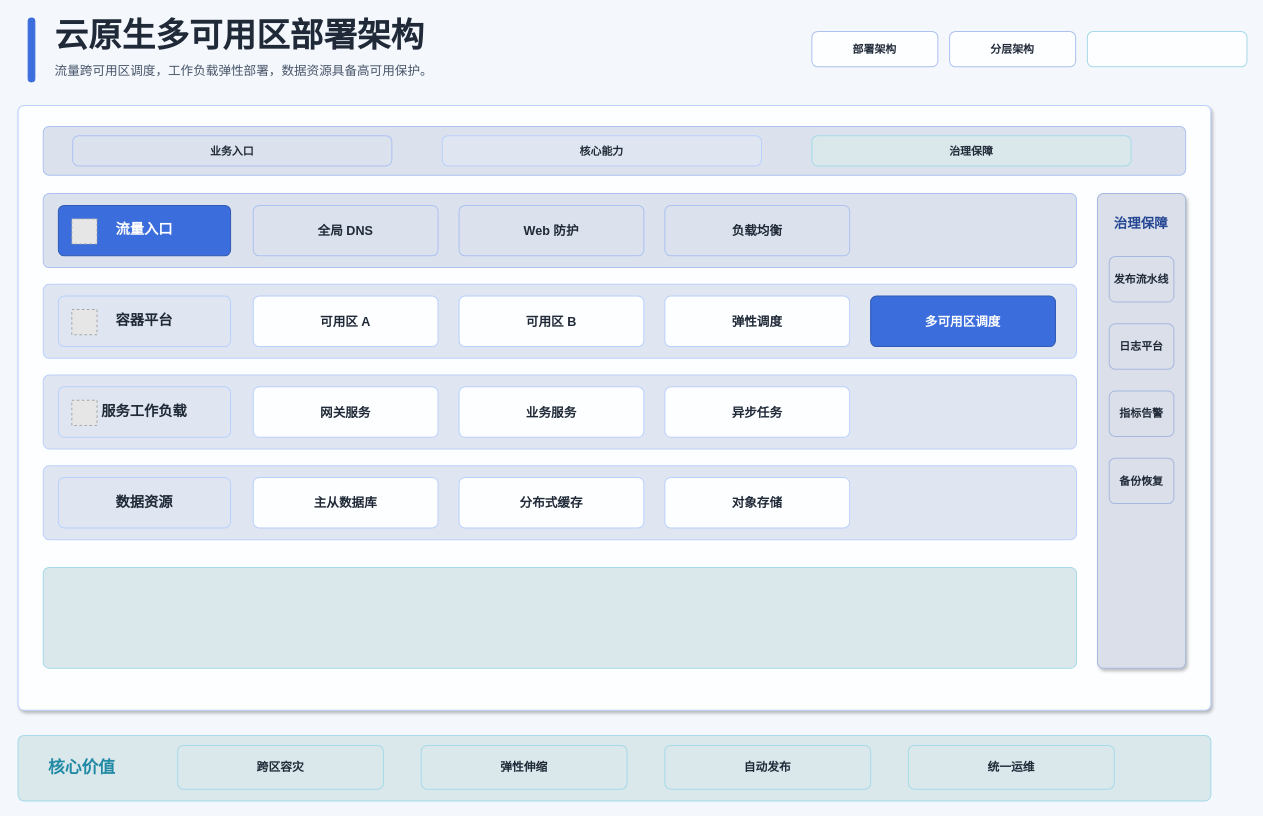
Image size: 1263x816. Some labels were removed from this diagram. Grey dashed boxes stand in for pictures. The shapes that lost their labels are listed below. From the top down, each one's centre as x and y in pixels, then its label:
point 1166,49: Tech Blue
point 559,617: 流量跨可用区调度，工作负载弹性部署，数据资源具备高可用保护。 架构能力形成统一承载、弹性扩展与闭环治理
